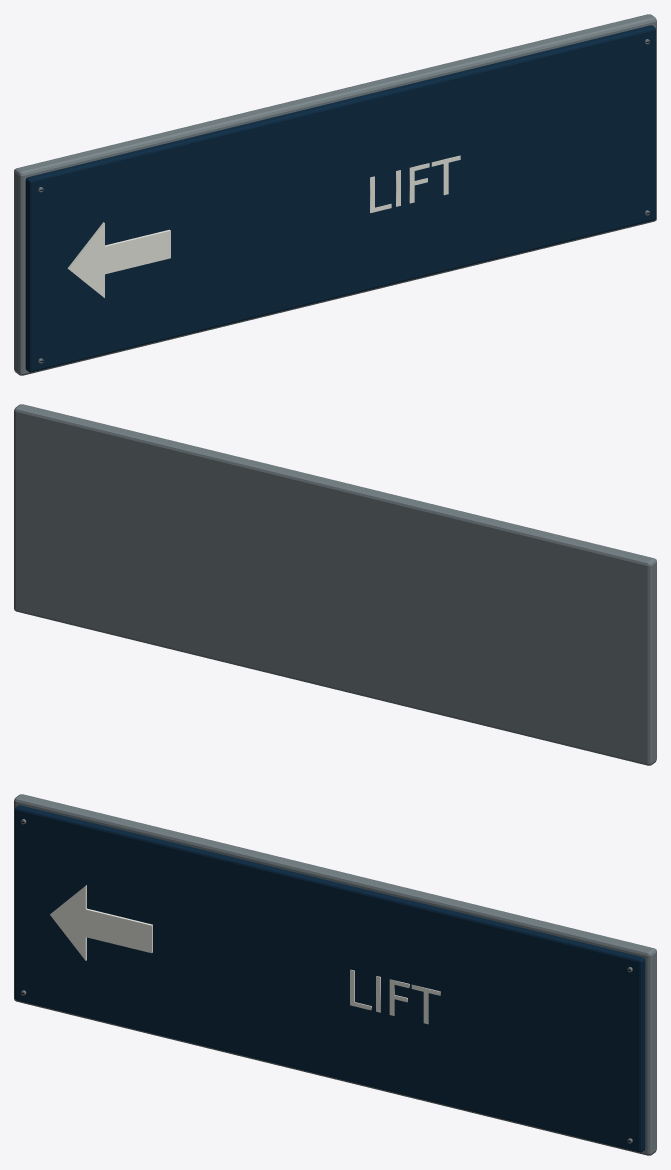
The model's file is OAA_Papan_Arah_Lift_Kiri.fbx.
The picture shows the model from 3 angles, top to bottom: view 1: azimuth 30°, elevation 25°; view 2: azimuth 150°, elevation 25°; view 3: azimuth 330°, elevation 25°; orthographic projection.
Parts seen in each view (by area): view 1: Body; view 2: Body; view 3: Body.
Boxes of the visible parts, x1=… form: Body: x1=14, y1=14, x2=656, y2=375; Body: x1=14, y1=404, x2=656, y2=765; Body: x1=14, y1=794, x2=656, y2=1155.
Size of the model in its own units: 0.85 by 0.26 by 0.0325.
